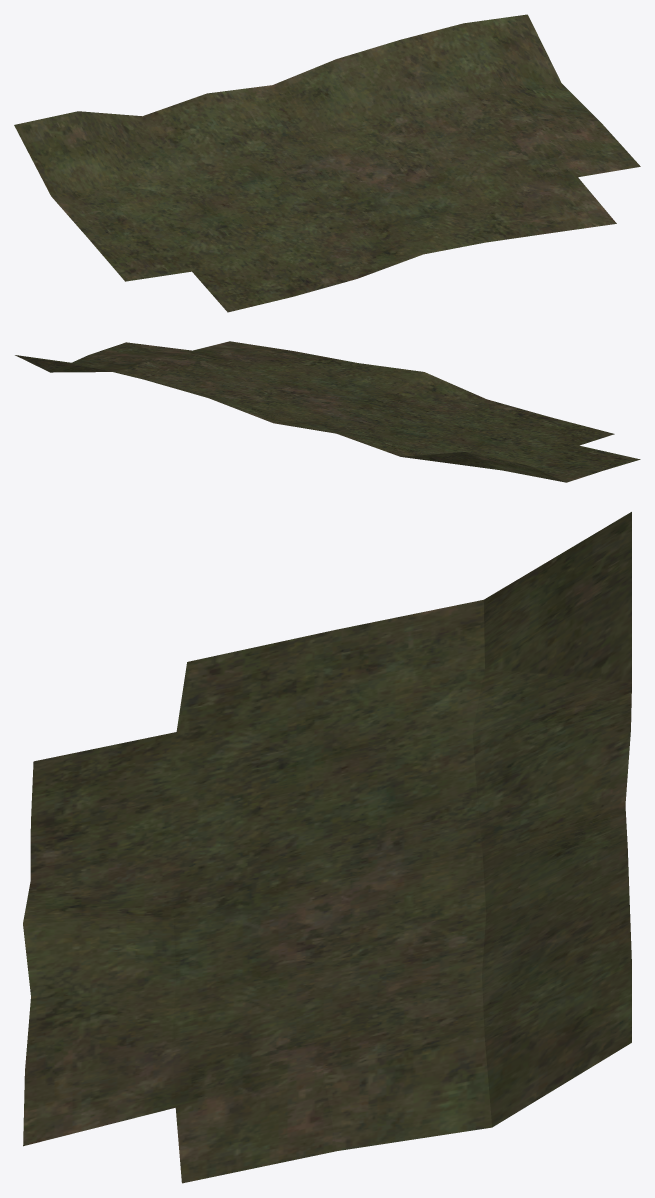
The model's file is blend_weeds14.fbx.
The picture shows the model from 3 angles, top to bottom: view 1: azimuth 30°, elevation 25°; view 2: azimuth 150°, elevation 25°; view 3: azimuth 270°, elevation 25°; orthographic projection. The views are drawn at different scales.
Visible parts, largest first — view 1: obj0.035; view 2: obj0.035; view 3: obj0.035.
Boxes of the visible parts, x1,y1,x2,y2 form: obj0.035: (14, 14, 640, 312); obj0.035: (15, 341, 640, 482); obj0.035: (23, 512, 631, 1183).
Bounding box in the file's own units: 20.03 × 3.62 × 10.27.
